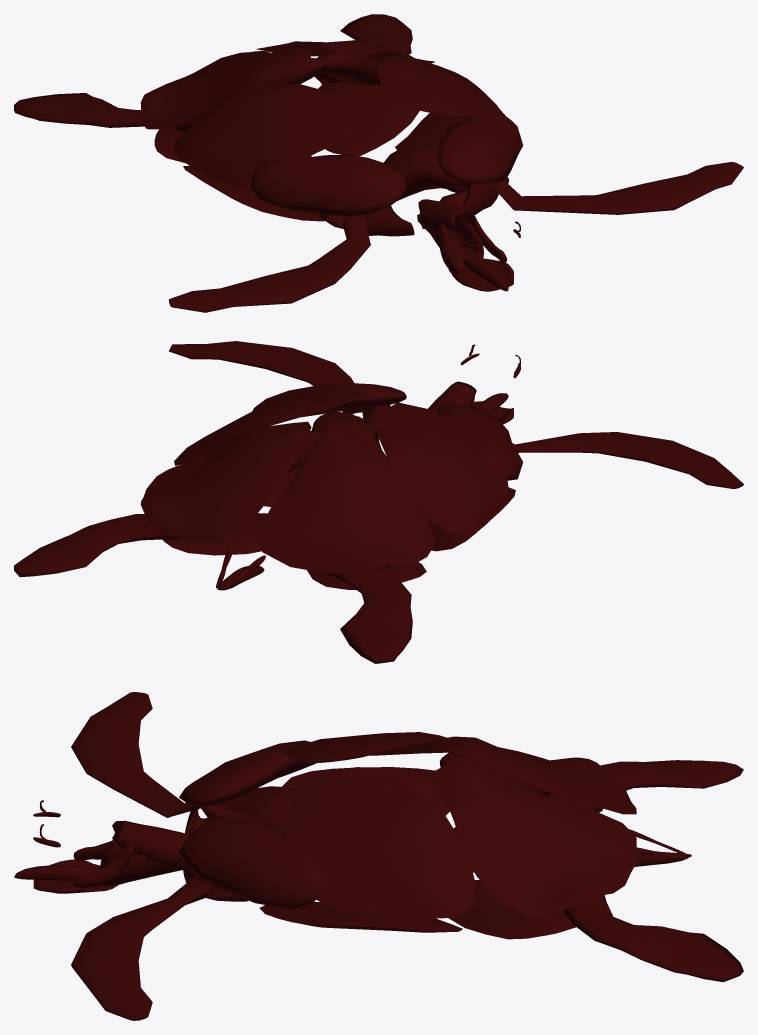
File: TurtleMuscleMesh.obj
3 renders of one model, top to bottom at view 1: azimuth 30°, elevation 25°; view 2: azimuth 150°, elevation 25°; view 3: azimuth 270°, elevation 25°, orthographic. The views are drawn at different scales.
Parts seen in each view (by area): view 1: MuscleMeshes Geometry MuscleBackUpper, MuscleMeshes Geometry MuscleShoulderUpperR, MuscleMeshes Geometry MuscleArmR, MuscleMeshes Geometry MuscleBackLower, MuscleMeshes Geometry MuscleLegR, MuscleMeshes Geometry MuscleAbs, MuscleMeshes Geometry MuscleChest, MuscleMeshes Geometry MuscleGluteR, MuscleMeshes Geometry MuscleShoulderLowerR, MuscleMeshes Geometry MuscleCollarOuterR, MuscleMeshes Geometry MuscleThroat, MuscleMeshes Geometry MuscleNeckUpper (+3 smaller); view 2: MuscleMeshes Geometry MuscleBackLower, MuscleMeshes Geometry MuscleBackUpper, MuscleMeshes Geometry MuscleLegR, MuscleMeshes Geometry MuscleArmR, MuscleMeshes Geometry MuscleShoulderUpperR, MuscleMeshes Geometry MuscleAbs, MuscleMeshes Geometry MuscleChest, MuscleMeshes Geometry MuscleShoulderLowerR, MuscleMeshes Geometry MuscleNeckUpper; view 3: MuscleMeshes Geometry MuscleBackLower, MuscleMeshes Geometry MuscleBackUpper, MuscleMeshes Geometry MuscleArmR, MuscleMeshes Geometry MuscleShoulderUpperR, MuscleMeshes Geometry MuscleLegR, MuscleMeshes Geometry MuscleChest, MuscleMeshes Geometry MuscleAbs, MuscleMeshes Geometry MuscleShoulderLowerR, MuscleMeshes Geometry MuscleNeckUpper, MuscleMeshes Geometry MuscleJawR, MuscleMeshes Geometry MuscleThroat, MuscleJawLower MuscleMeshes Geometry (+2 smaller).
Part boxes in pixels (left/top/right/bottom): MuscleMeshes Geometry MuscleBackUpper: left=174, top=55, right=505, bottom=185; MuscleMeshes Geometry MuscleShoulderUpperR: left=251, top=108, right=522, bottom=216; MuscleMeshes Geometry MuscleArmR: left=168, top=162, right=743, bottom=312; MuscleMeshes Geometry MuscleBackLower: left=140, top=38, right=434, bottom=129; MuscleMeshes Geometry MuscleLegR: left=14, top=14, right=412, bottom=127; MuscleMeshes Geometry MuscleAbs: left=154, top=82, right=419, bottom=163; MuscleMeshes Geometry MuscleChest: left=183, top=112, right=468, bottom=221; MuscleMeshes Geometry MuscleGluteR: left=173, top=51, right=381, bottom=131; MuscleMeshes Geometry MuscleShoulderLowerR: left=318, top=142, right=509, bottom=228; MuscleMeshes Geometry MuscleCollarOuterR: left=357, top=181, right=499, bottom=236; MuscleMeshes Geometry MuscleThroat: left=417, top=214, right=483, bottom=269; MuscleMeshes Geometry MuscleNeckUpper: left=418, top=199, right=476, bottom=230; MuscleMeshes Geometry MuscleBackLower: left=140, top=421, right=434, bottom=573; MuscleMeshes Geometry MuscleBackUpper: left=174, top=389, right=508, bottom=532; MuscleMeshes Geometry MuscleLegR: left=14, top=514, right=412, bottom=663; MuscleMeshes Geometry MuscleArmR: left=169, top=341, right=743, bottom=488; MuscleMeshes Geometry MuscleShoulderUpperR: left=252, top=383, right=522, bottom=480; MuscleMeshes Geometry MuscleAbs: left=162, top=513, right=426, bottom=589; MuscleMeshes Geometry MuscleChest: left=264, top=468, right=515, bottom=551; MuscleMeshes Geometry MuscleShoulderLowerR: left=311, top=412, right=390, bottom=464; MuscleMeshes Geometry MuscleNeckUpper: left=428, top=381, right=476, bottom=412; MuscleMeshes Geometry MuscleBackLower: left=430, top=736, right=636, bottom=916; MuscleMeshes Geometry MuscleBackUpper: left=283, top=732, right=475, bottom=918; MuscleMeshes Geometry MuscleArmR: left=71, top=692, right=212, bottom=1020; MuscleMeshes Geometry MuscleShoulderUpperR: left=179, top=740, right=324, bottom=909; MuscleMeshes Geometry MuscleLegR: left=547, top=760, right=743, bottom=982; MuscleMeshes Geometry MuscleChest: left=259, top=767, right=462, bottom=932; MuscleMeshes Geometry MuscleAbs: left=448, top=827, right=575, bottom=939; MuscleMeshes Geometry MuscleShoulderLowerR: left=202, top=786, right=300, bottom=901; MuscleMeshes Geometry MuscleNeckUpper: left=112, top=820, right=190, bottom=867; MuscleMeshes Geometry MuscleJawR: left=73, top=840, right=135, bottom=888; MuscleMeshes Geometry MuscleThroat: left=99, top=845, right=184, bottom=885; MuscleJawLower MuscleMeshes Geometry: left=33, top=859, right=118, bottom=893.
Bounding box in the file's own units: 20.53 × 3.85 × 19.39.
